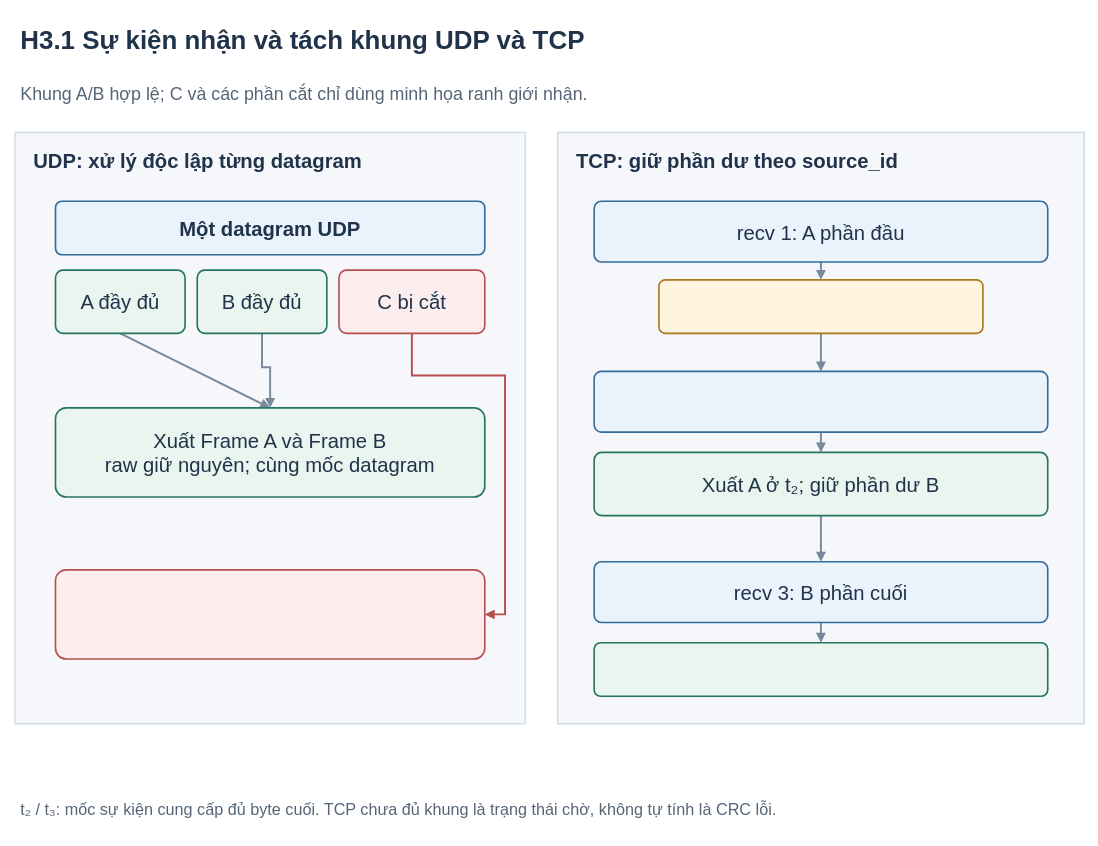
The diagram is 1098 pixels wide and 846 high, and some of its shapes have lost their labels. Each missing label, with the centre of its shape:
"Giữ phần dư A" belongs at point (820, 306).
"recv 2: A phần cuối + B phần đầu" belongs at point (820, 401).
"TruncatedDatagram cho C Không ghép sang datagram sau" belongs at point (269, 614).
"Xuất B ở t₃; phần dư rỗng" belongs at point (820, 669).
